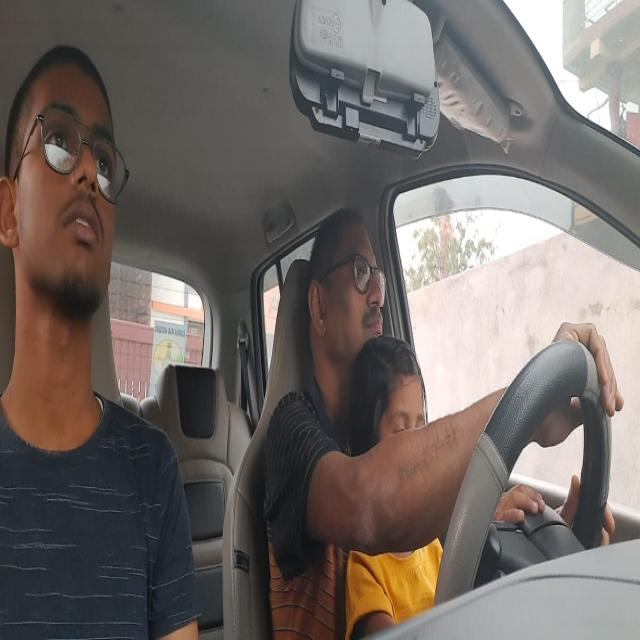child: (360, 346, 442, 430)
person: (2, 39, 122, 325), (310, 216, 394, 340)
